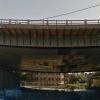Bridge: (4, 7, 94, 73)
